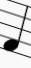note: (3, 1, 30, 61)
